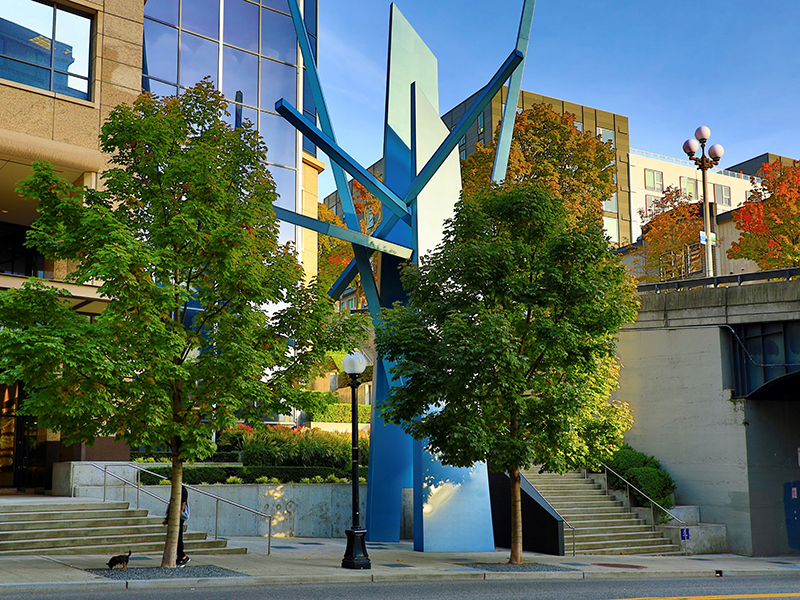tree: (1, 74, 370, 569), (374, 178, 638, 566)
